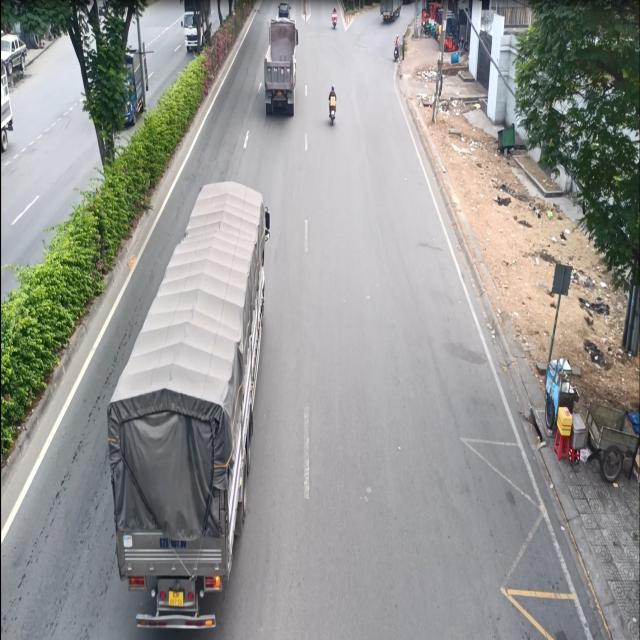motor: (326, 80, 340, 126)
truck: (100, 173, 279, 640), (258, 18, 304, 126)
